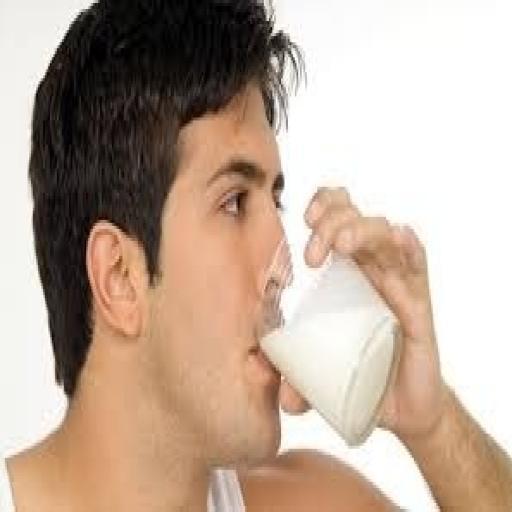drinking: (0, 0, 402, 446)
